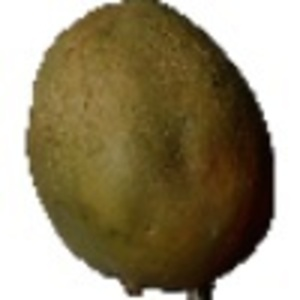mamão: (20, 4, 285, 287)
